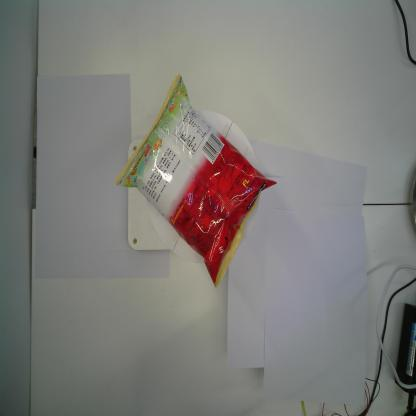Puffed Food: (113, 72, 279, 292)
